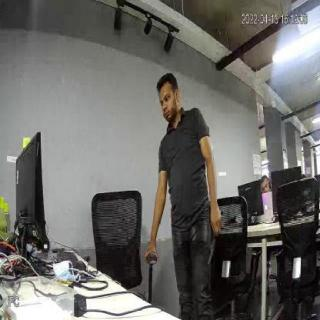knife: (207, 236, 217, 266)
